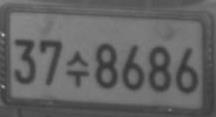3: (13, 39, 36, 84)
6: (122, 45, 144, 90), (175, 47, 197, 92)
7: (39, 40, 62, 86)
8: (149, 46, 171, 91), (95, 43, 117, 87)
수: (66, 49, 90, 87)
